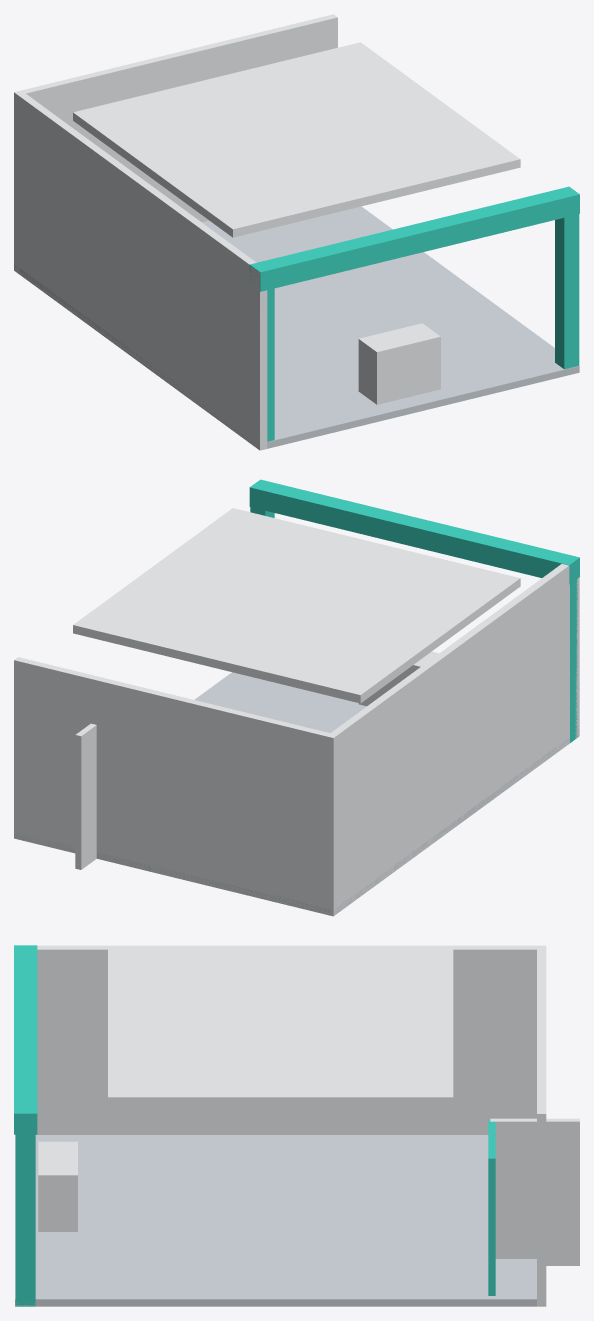
The picture shows the model from 3 angles, top to bottom: view 1: azimuth 30°, elevation 25°; view 2: azimuth 150°, elevation 25°; view 3: azimuth 270°, elevation 25°; orthographic projection. The views are drawn at different scales.
Parts seen in each view (by area): view 1: Exhibition Booth Concept; view 2: Exhibition Booth Concept; view 3: Exhibition Booth Concept.
Part boxes in pixels (x1,y1,x2,y2): Exhibition Booth Concept: [14, 14, 579, 450]; Exhibition Booth Concept: [14, 479, 579, 916]; Exhibition Booth Concept: [14, 945, 579, 1306].
Size of the model in its own units: 6 by 3.34 by 8.52.
